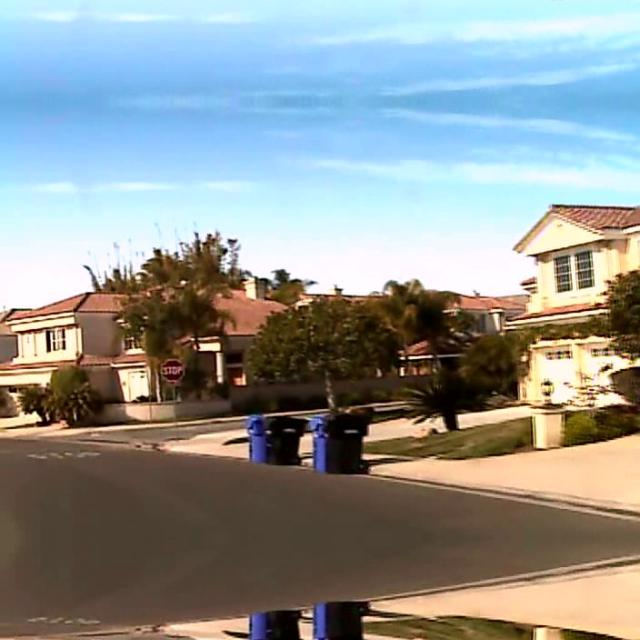stop: (160, 358, 184, 380)
